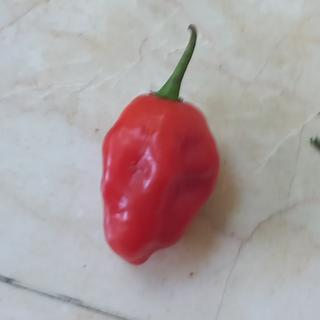Grade-A: (91, 91, 225, 270)
